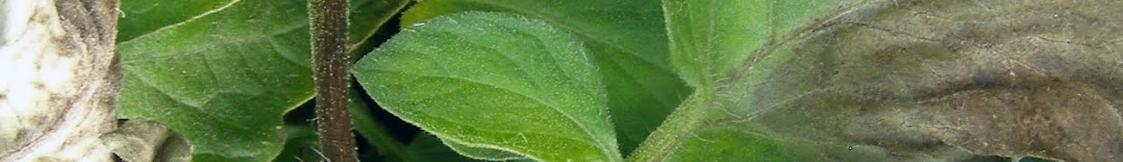Tomato mold leaf: (636, 0, 1123, 162), (343, 0, 631, 162)
